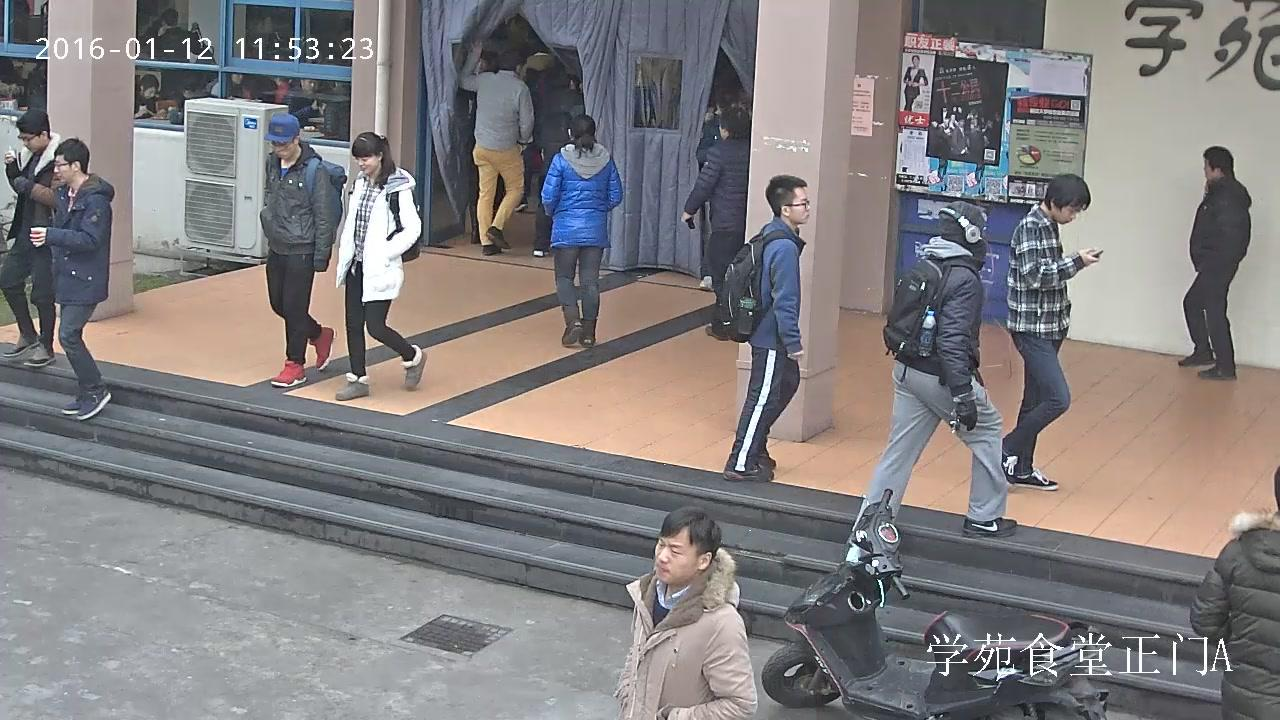person: (843, 198, 1018, 554), (1002, 174, 1101, 491), (614, 508, 757, 720), (721, 175, 811, 482), (335, 130, 427, 405), (258, 112, 346, 388), (29, 138, 114, 423), (1187, 462, 1280, 720), (541, 114, 623, 348), (0, 108, 72, 369), (1177, 145, 1251, 383), (680, 113, 750, 342), (460, 41, 533, 257), (697, 93, 750, 292), (533, 74, 586, 255), (516, 31, 561, 212), (460, 52, 501, 244), (143, 7, 199, 62), (288, 77, 334, 123), (901, 55, 928, 112), (135, 72, 165, 118), (210, 69, 246, 99)
